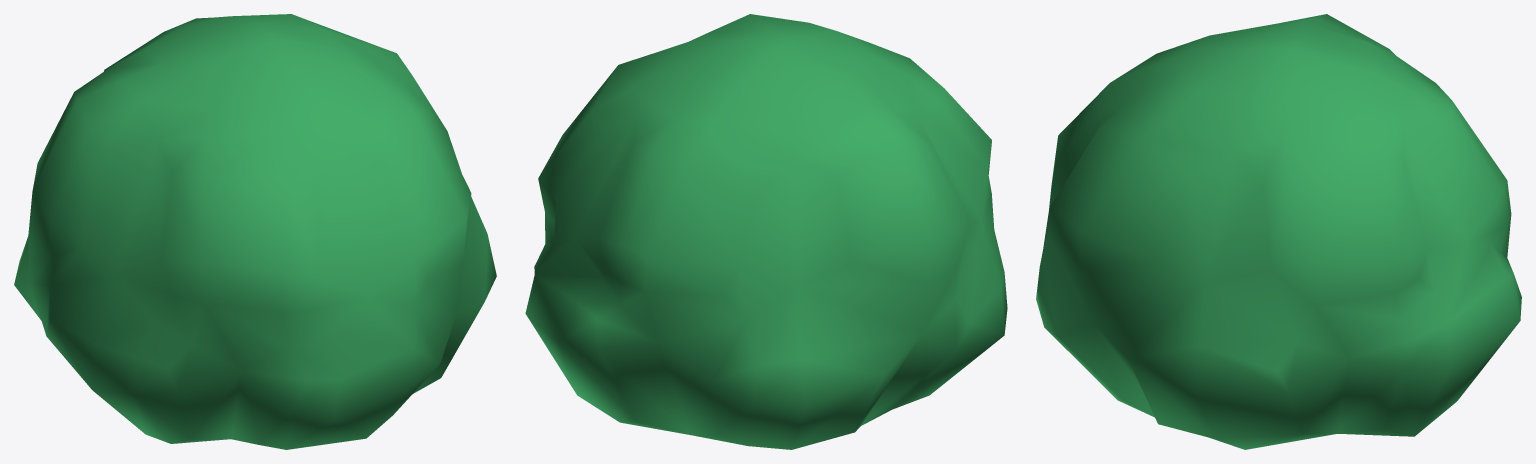
File: Tree_Top_D_01_LOD2.gltf
3 renders of one model, left to right at view 1: azimuth 30°, elevation 25°; view 2: azimuth 150°, elevation 25°; view 3: azimuth 270°, elevation 25°, orthographic.
Visible parts, largest first — view 1: Tree_Top_D_01_LOD2_Cylinder.666; view 2: Tree_Top_D_01_LOD2_Cylinder.666; view 3: Tree_Top_D_01_LOD2_Cylinder.666.
Boxes of the visible parts, x1,y1,x2,y2 form: Tree_Top_D_01_LOD2_Cylinder.666: (14, 14, 496, 449); Tree_Top_D_01_LOD2_Cylinder.666: (525, 14, 1007, 449); Tree_Top_D_01_LOD2_Cylinder.666: (1036, 14, 1521, 449).
Bounding box in the file's own units: 5.36 × 4.57 × 5.59.
1 material, 1 textured.
